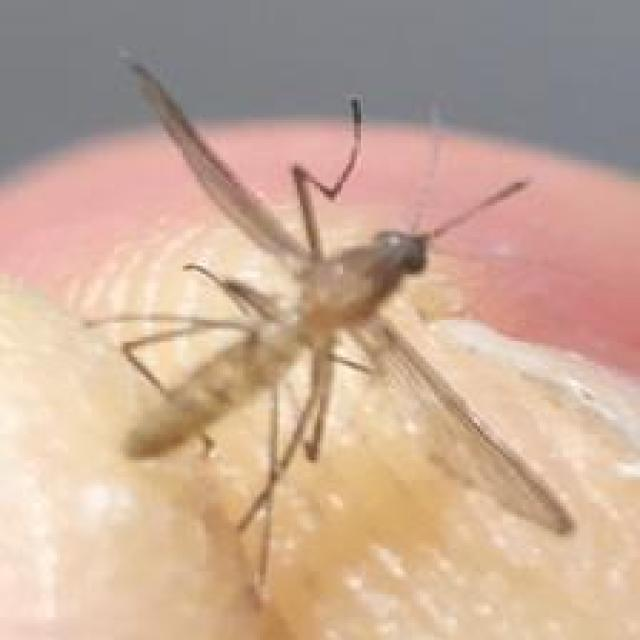Culex: (80, 54, 577, 606)
